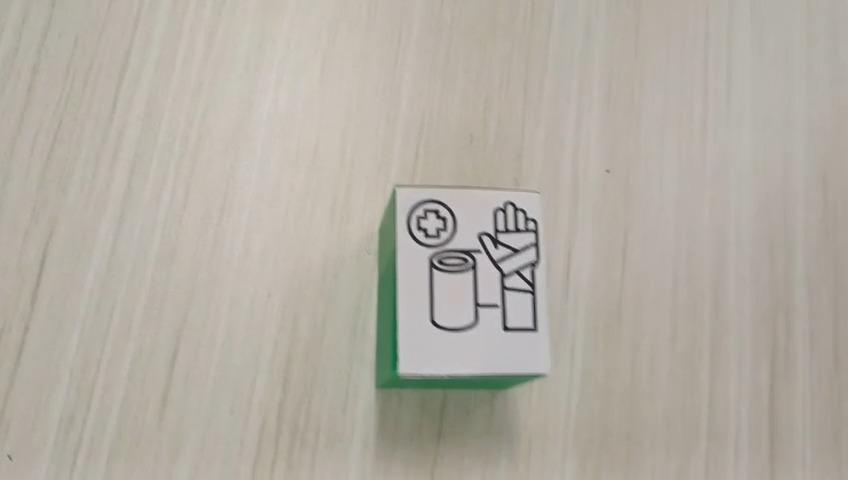Bandages: (375, 183, 551, 389)
